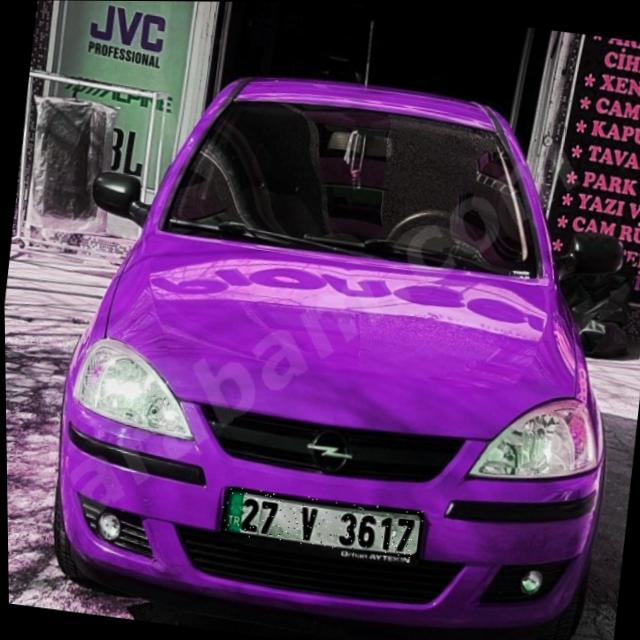license_plate: (217, 485, 422, 558)
